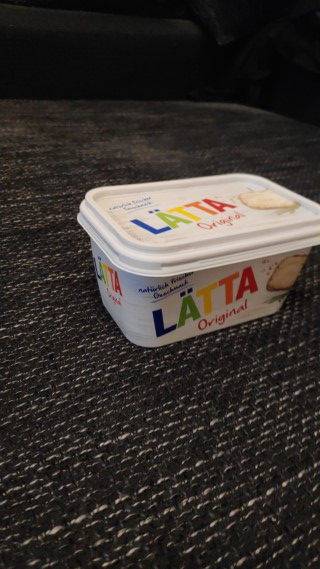laetta: (76, 172, 320, 349)
